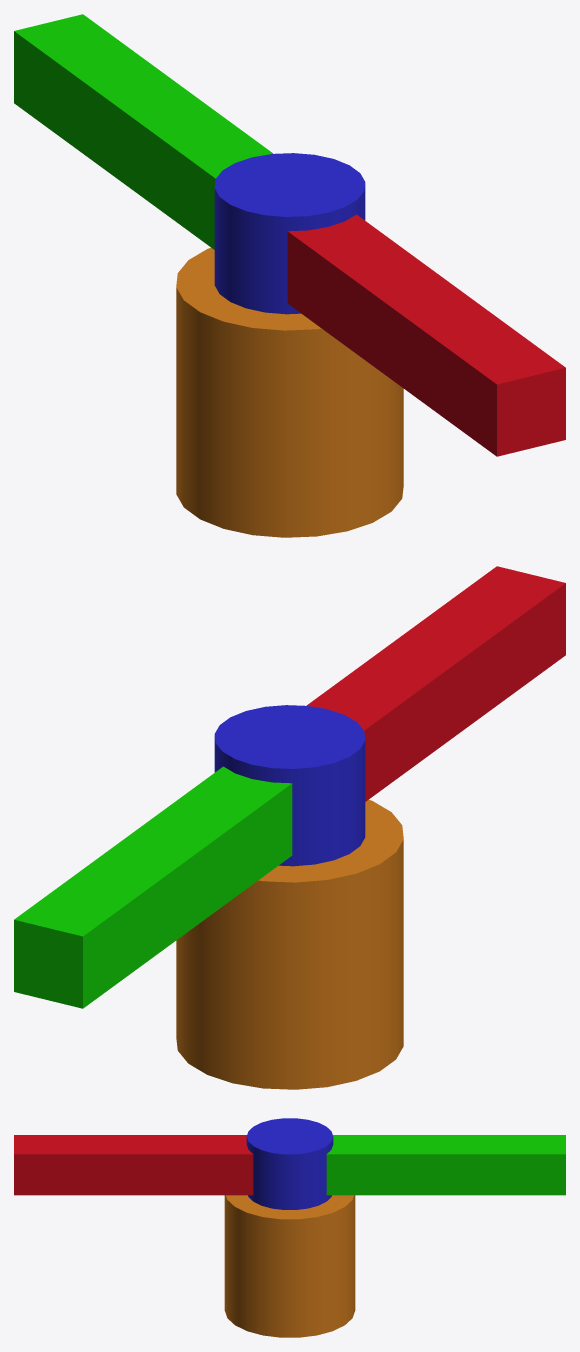
Rendered from Spining_colour_trap.fbx.
The picture shows the model from 3 angles, top to bottom: view 1: azimuth 30°, elevation 25°; view 2: azimuth 150°, elevation 25°; view 3: azimuth 270°, elevation 25°; orthographic projection. The views are drawn at different scales.
Parts seen in each view (by area): view 1: Cylinder, Cube.001, Cube, Cylinder.001; view 2: Cylinder, Cube, Cube.001, Cylinder.001; view 3: Cylinder, Cube.001, Cube, Cylinder.001.
Boxes of the visible parts, x1=… form: Cylinder: x1=176, y1=247, x2=403, y2=537; Cube.001: x1=287, y1=214, x2=565, y2=456; Cube: x1=14, y1=14, x2=273, y2=249; Cylinder.001: x1=214, y1=153, x2=365, y2=314; Cylinder: x1=176, y1=799, x2=403, y2=1089; Cube: x1=14, y1=766, x2=292, y2=1008; Cube.001: x1=306, y1=566, x2=565, y2=801; Cylinder.001: x1=214, y1=705, x2=365, y2=866; Cylinder: x1=224, y1=1195, x2=355, y2=1337; Cube.001: x1=14, y1=1135, x2=253, y2=1195; Cube: x1=326, y1=1135, x2=565, y2=1195; Cylinder.001: x1=246, y1=1118, x2=333, y2=1209.
Size of the model in its own units: 30.85 by 45.81 by 132.
